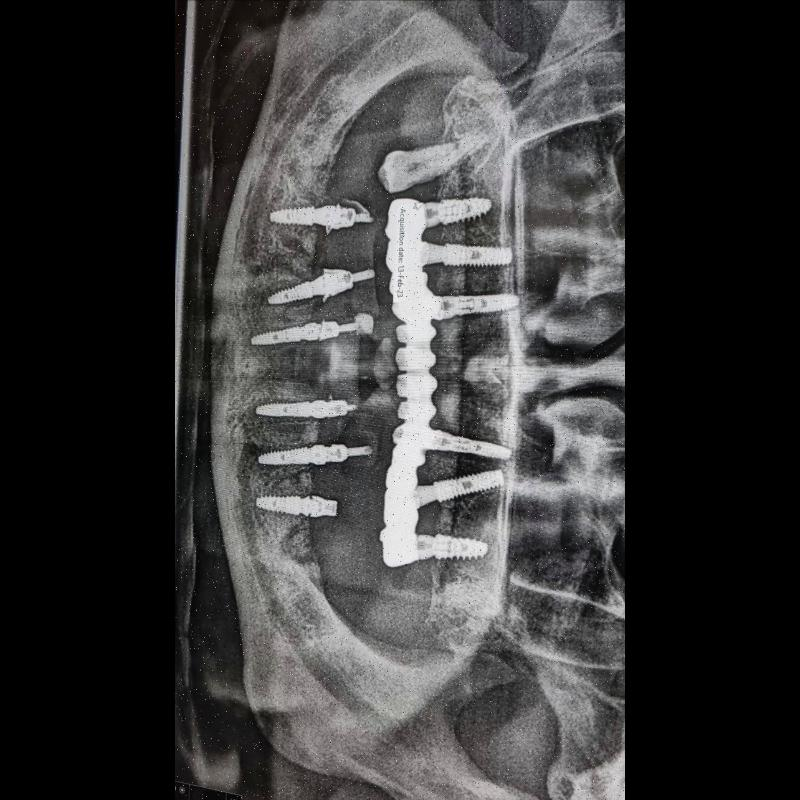osstem: (473, 41, 586, 99)
